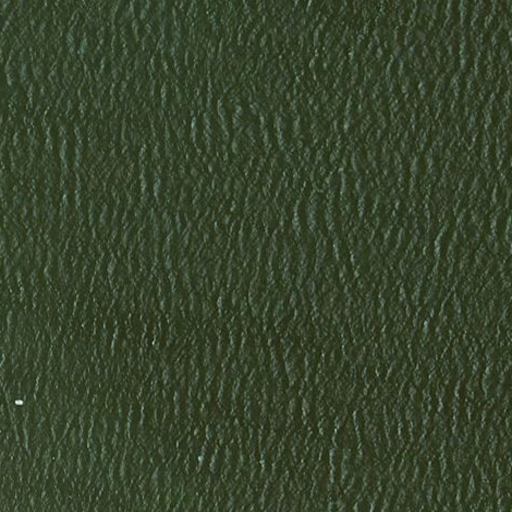ship: (12, 396, 25, 408)
